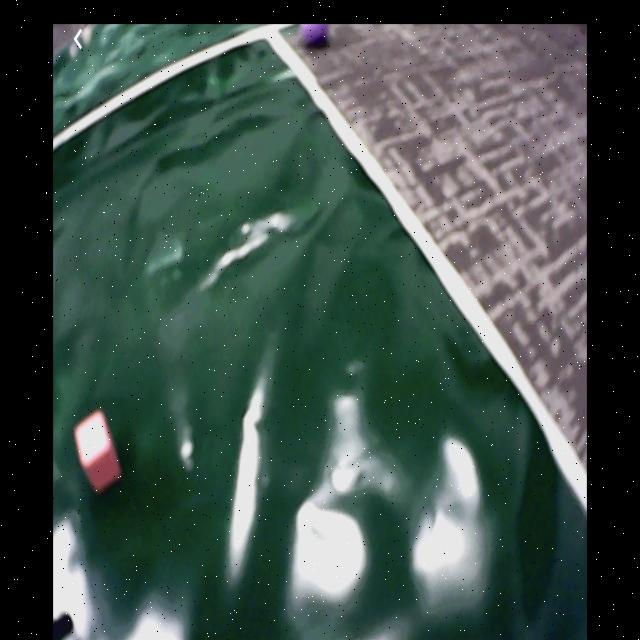ball: (299, 27, 332, 49)
